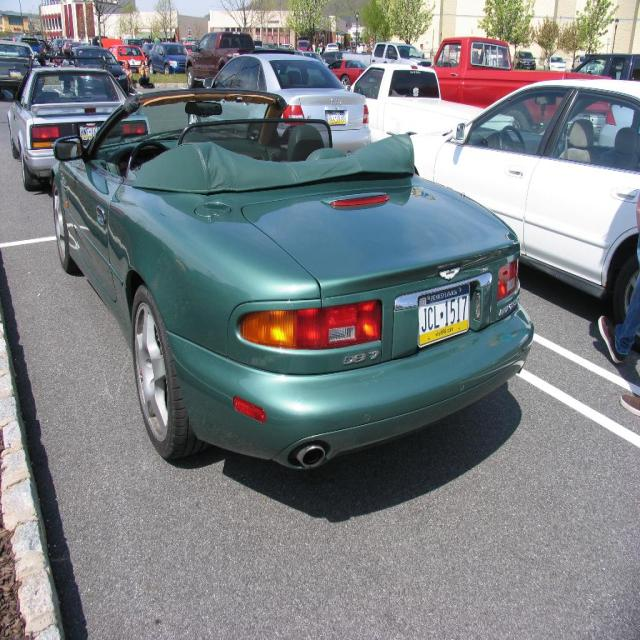car: (49, 88, 538, 464)
